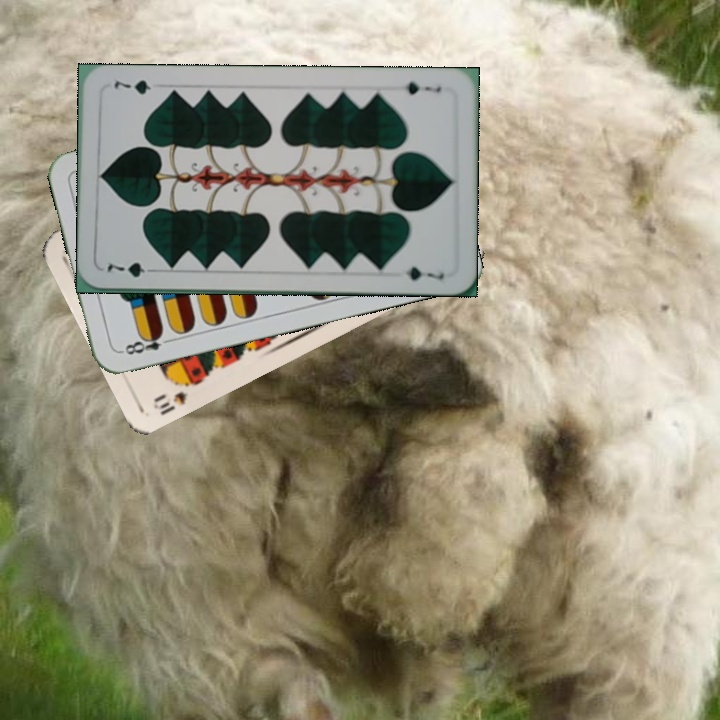E8: (117, 327, 175, 358)
G7: (103, 258, 160, 280), (401, 78, 444, 97)
S10: (149, 376, 200, 418)
